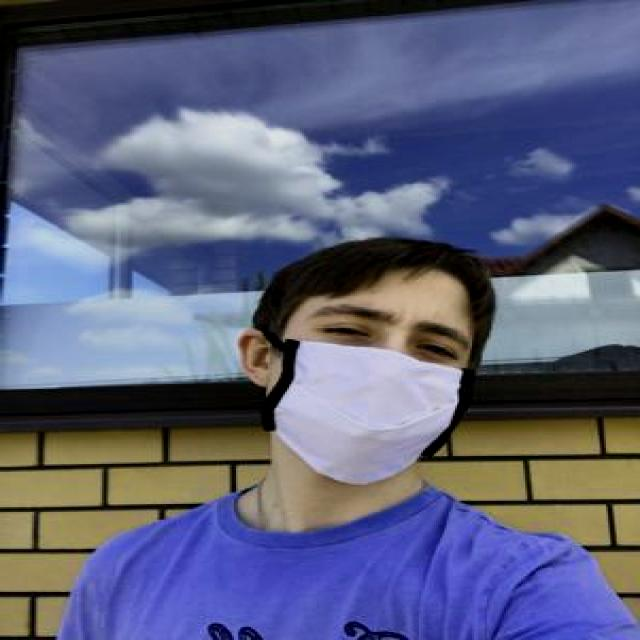face_mask: (264, 280, 476, 485)
head_nohelmet: (287, 222, 481, 277)
person: (54, 233, 619, 640)
